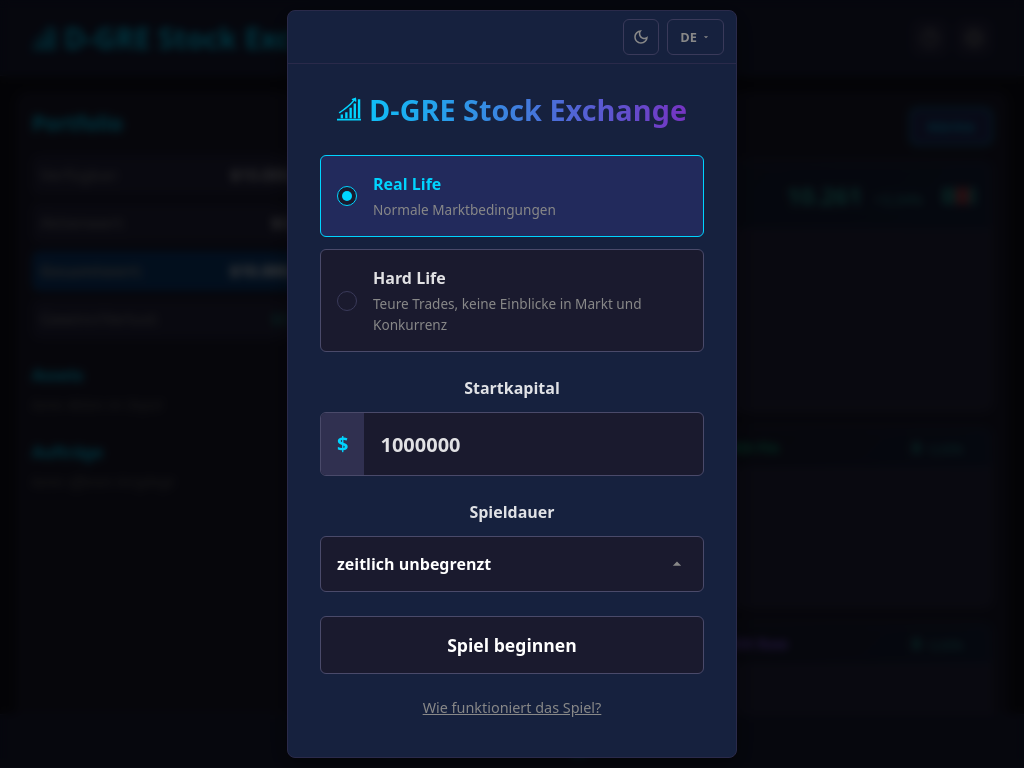
Test case: App › chart tab display › should show market index when portfolio is empty and no stock selected
The width and height of the screenshot is (1024, 768).
Click the button "Spiel beginnen": (512, 645) x1=320 y1=616 x2=704 y2=674
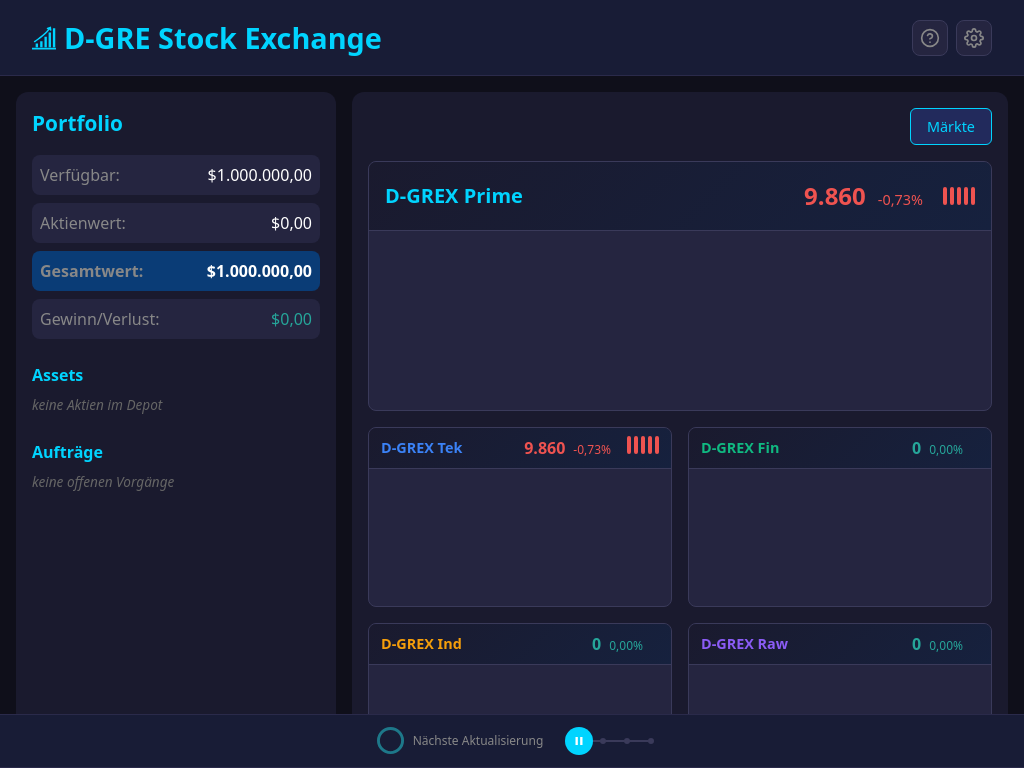
Expected: the button "Märkte" is shown, x1=910 y1=108 x2=992 y2=145
Expected: the element with class "game-start" is gone
